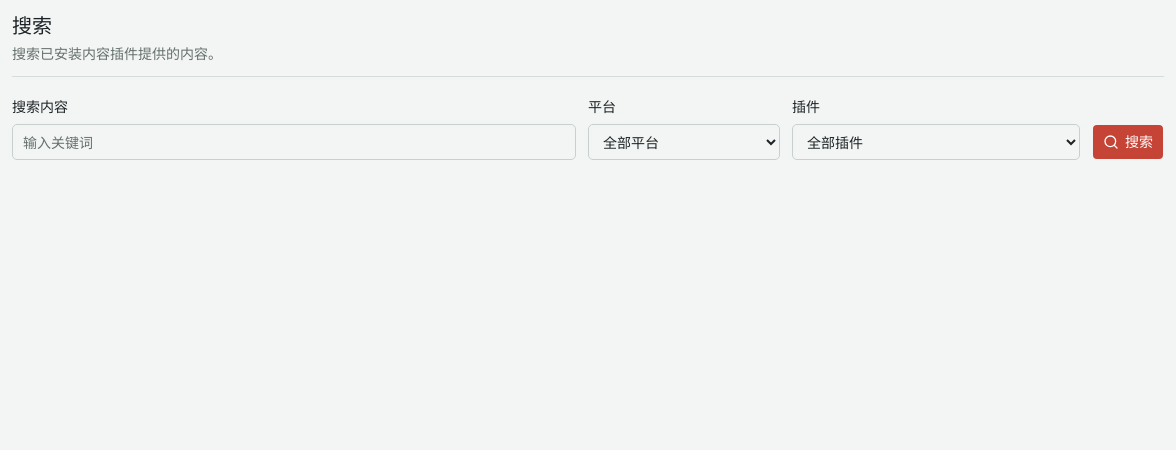
Test: content capability empty workflows › keeps the search form visible and submits icon plus accessible text
Type "本地测试" into the search field labelled "搜索内容" at (294, 142), box [12,124,576,160]
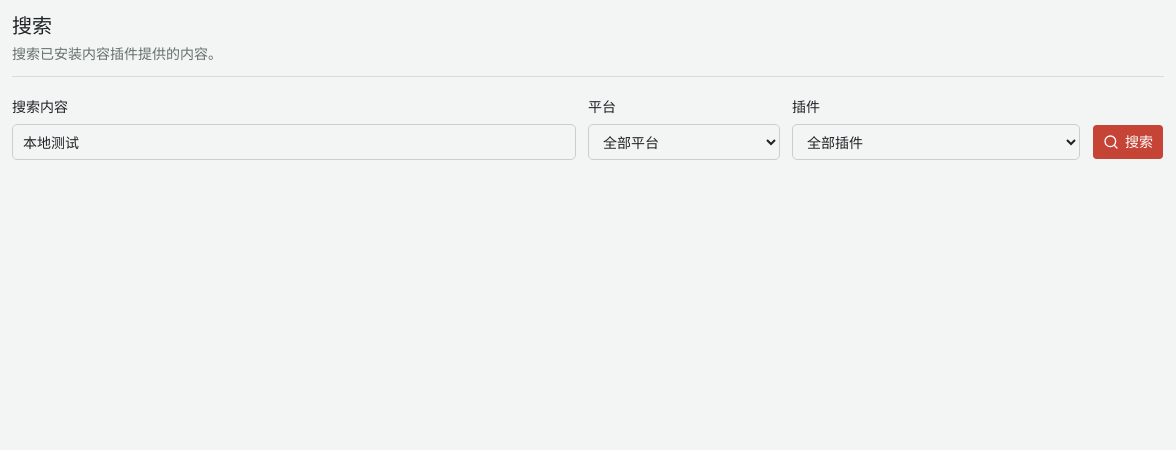
Expected: the submit button reads "搜索", [1092,124,1164,160]
Expected: the icon is shown, [1103,134,1119,150]
Submit the form, box [12,97,1164,160]
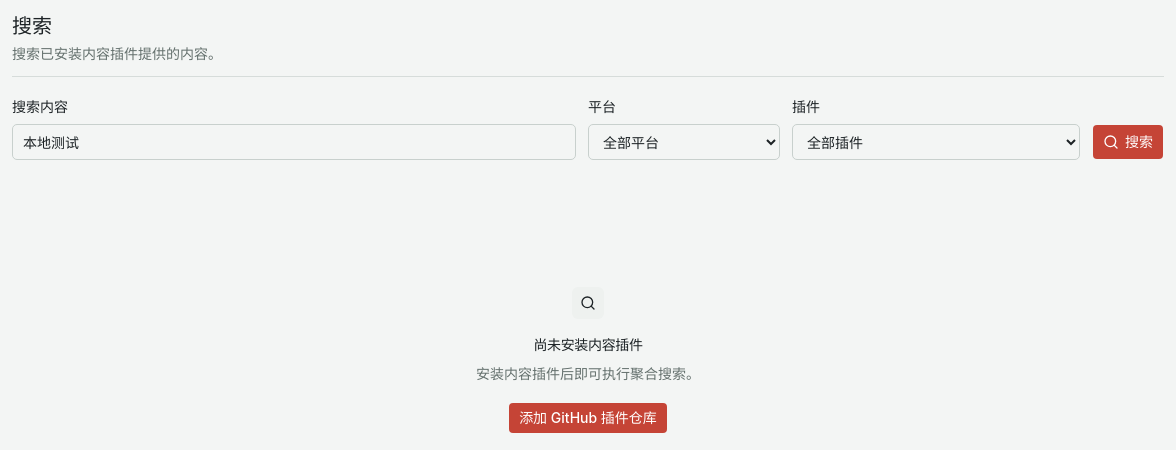
Expected: the text "尚未安装内容插件" is shown, [533,335,643,355]
